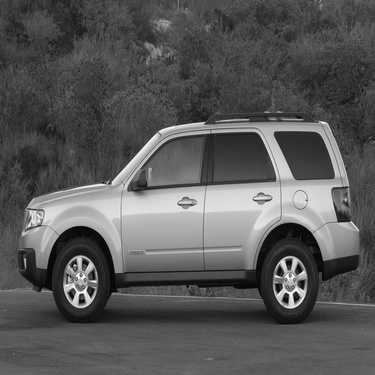car: (11, 112, 365, 326)
